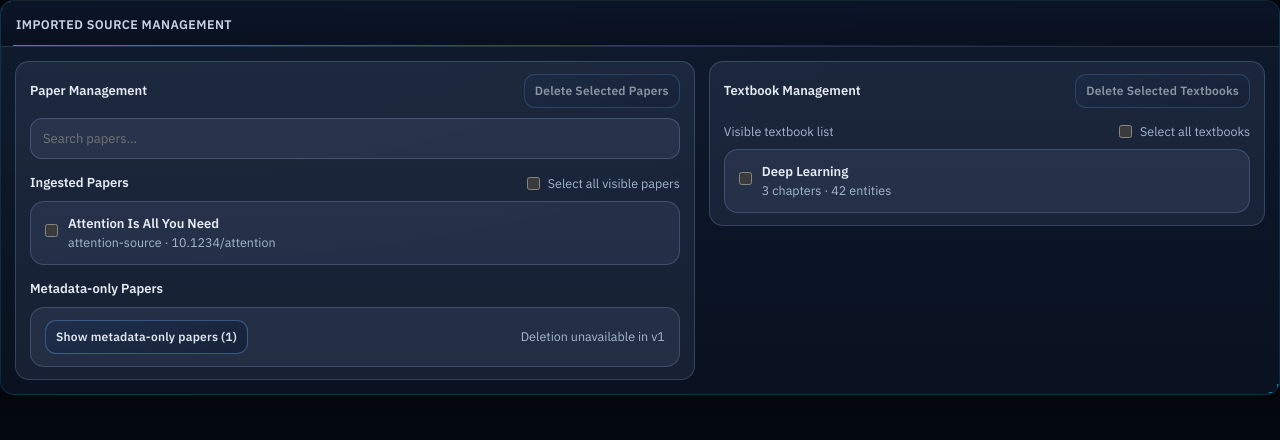
Test: ImportedSourceManagement › submits selected papers, shows summary, and clears the active paper selection when removed
Click the checkbox labelled "Attention Is All You Need": (52, 231) [45,224,58,237]
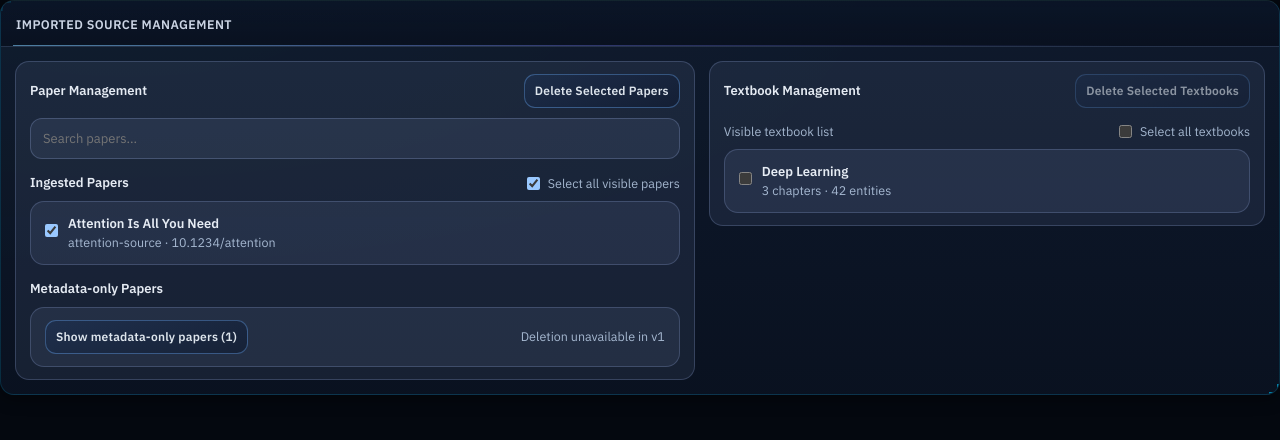
Click the button "Delete Selected Papers": (602, 91) [524,74,680,108]
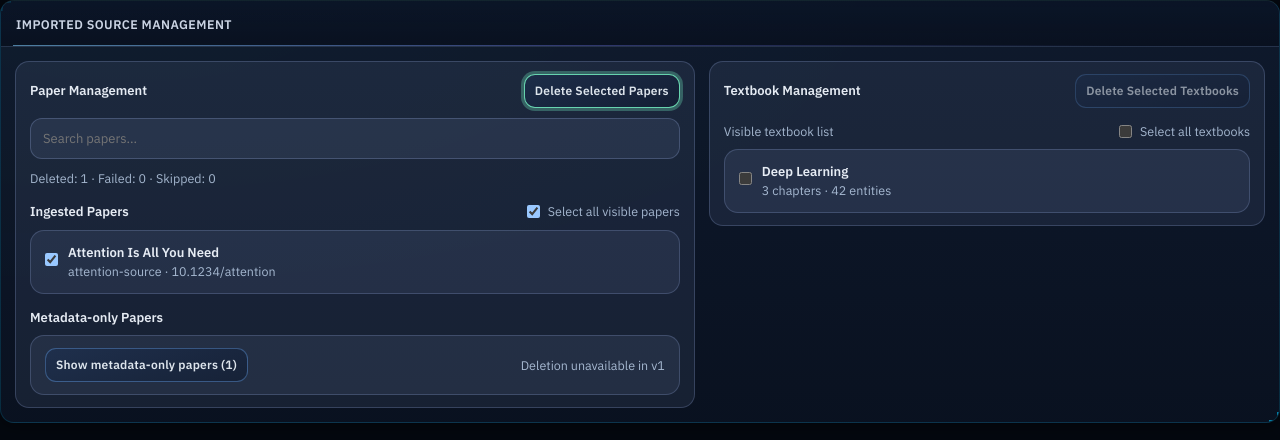
Result: the text "Deleted: 1 · Failed: 0 · Skipped: 0" is shown at [30,170,216,186]
